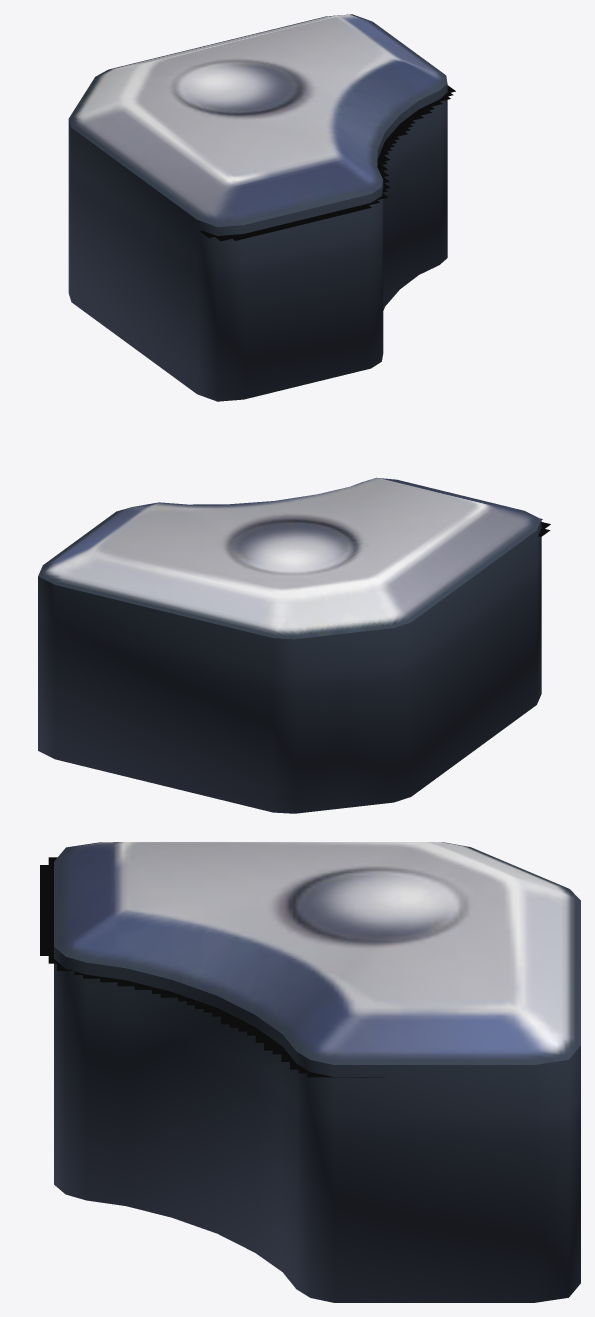
The model's file is StationaryBlock_TopLeft.obj.
The picture shows the model from 3 angles, top to bottom: view 1: azimuth 30°, elevation 25°; view 2: azimuth 150°, elevation 25°; view 3: azimuth 270°, elevation 25°; orthographic projection. The views are drawn at different scales.
Parts seen in each view (by area): view 1: StationaryBlock_TopLeft_sub0, StationaryBlock_TopLeft_sub1; view 2: StationaryBlock_TopLeft_sub0; view 3: StationaryBlock_TopLeft_sub0, StationaryBlock_TopLeft_sub1.
Part boxes in pixels (x1,y1,x2,y2): StationaryBlock_TopLeft_sub0: (68,14,447,401); StationaryBlock_TopLeft_sub1: (200,85,455,241); StationaryBlock_TopLeft_sub0: (38,477,541,813); StationaryBlock_TopLeft_sub0: (54,842,580,1302); StationaryBlock_TopLeft_sub1: (40,857,384,1077).
Size of the model in its own units: 0.3483 by 0.1802 by 0.3441.
